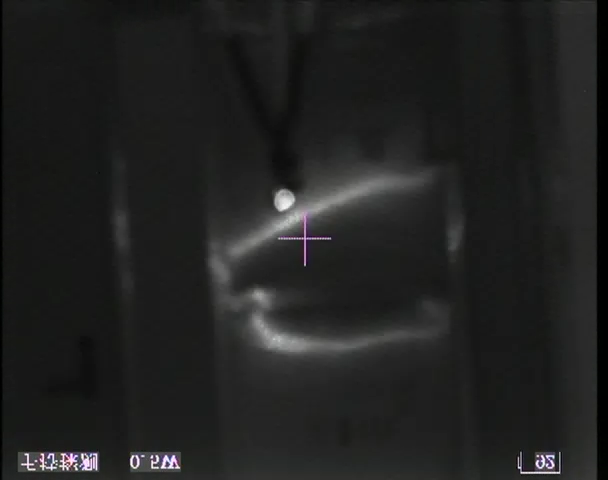my: (271, 188, 294, 213)
